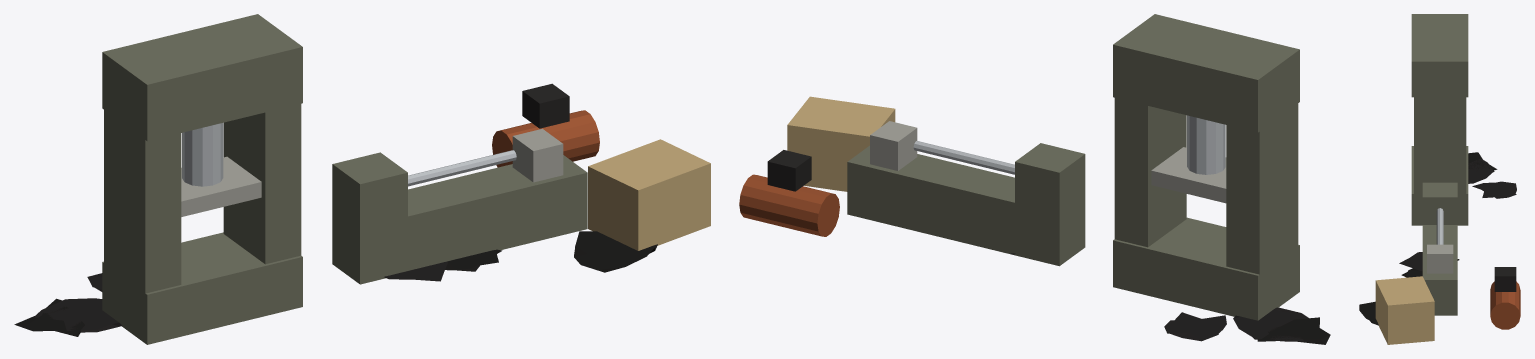
The model's file is works_machines.glb.
3 renders of one model, left to right at view 1: azimuth 30°, elevation 25°; view 2: azimuth 150°, elevation 25°; view 3: azimuth 270°, elevation 25°, orthographic. The views are drawn at different scales.
Parts seen in each view (by area): view 1: works_machines; view 2: works_machines; view 3: works_machines.
Boxes of the visible parts, box(x1,y1,x2,y2) form: works_machines: box(14, 14, 710, 344); works_machines: box(739, 14, 1330, 344); works_machines: box(1359, 14, 1520, 344).
Size of the model in its own units: 10.44 by 4.15 by 3.71.
